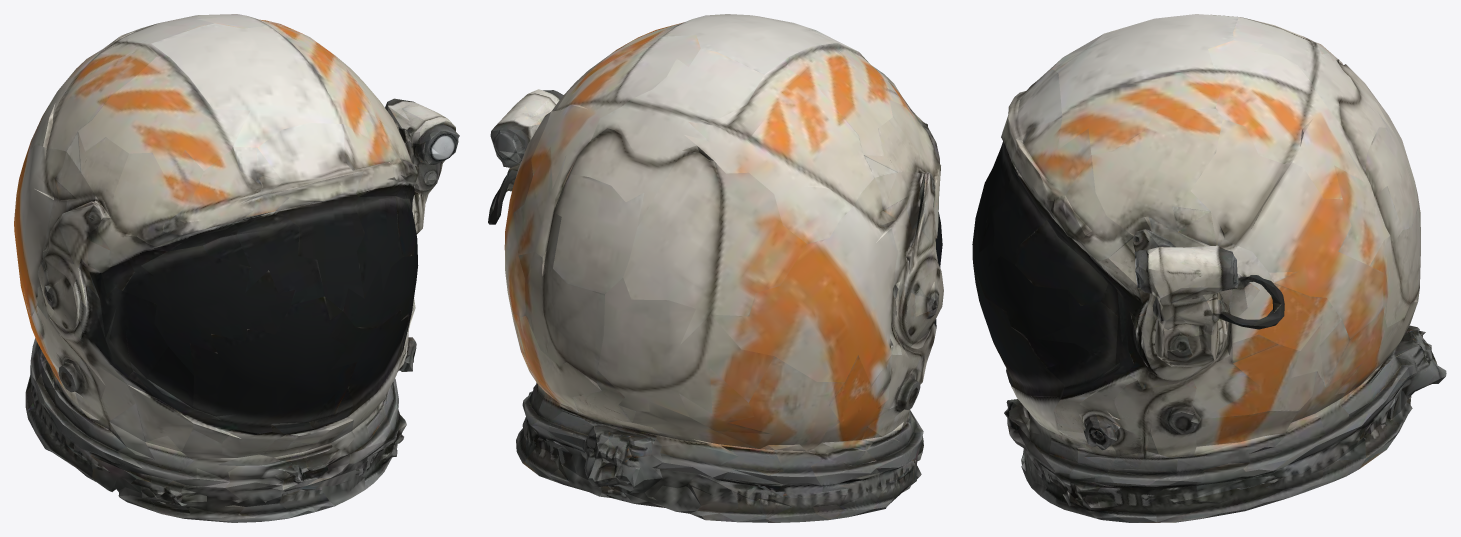
Rendered from helmet.glb.
3 views of the same model, side by side, from view 1: azimuth 30°, elevation 25°; view 2: azimuth 150°, elevation 25°; view 3: azimuth 270°, elevation 25° (orthographic). The views are drawn at different scales.
Parts seen in each view (by area): view 1: output_unwrapped; view 2: output_unwrapped; view 3: output_unwrapped.
Boxes of the visible parts, left/top/right/bottom form: output_unwrapped: left=14, top=14, right=459, bottom=522; output_unwrapped: left=488, top=14, right=943, bottom=522; output_unwrapped: left=972, top=14, right=1446, bottom=522.
Size of the model in its own units: 0.3165 by 0.32 by 0.3185.
1 material, 1 textured.
